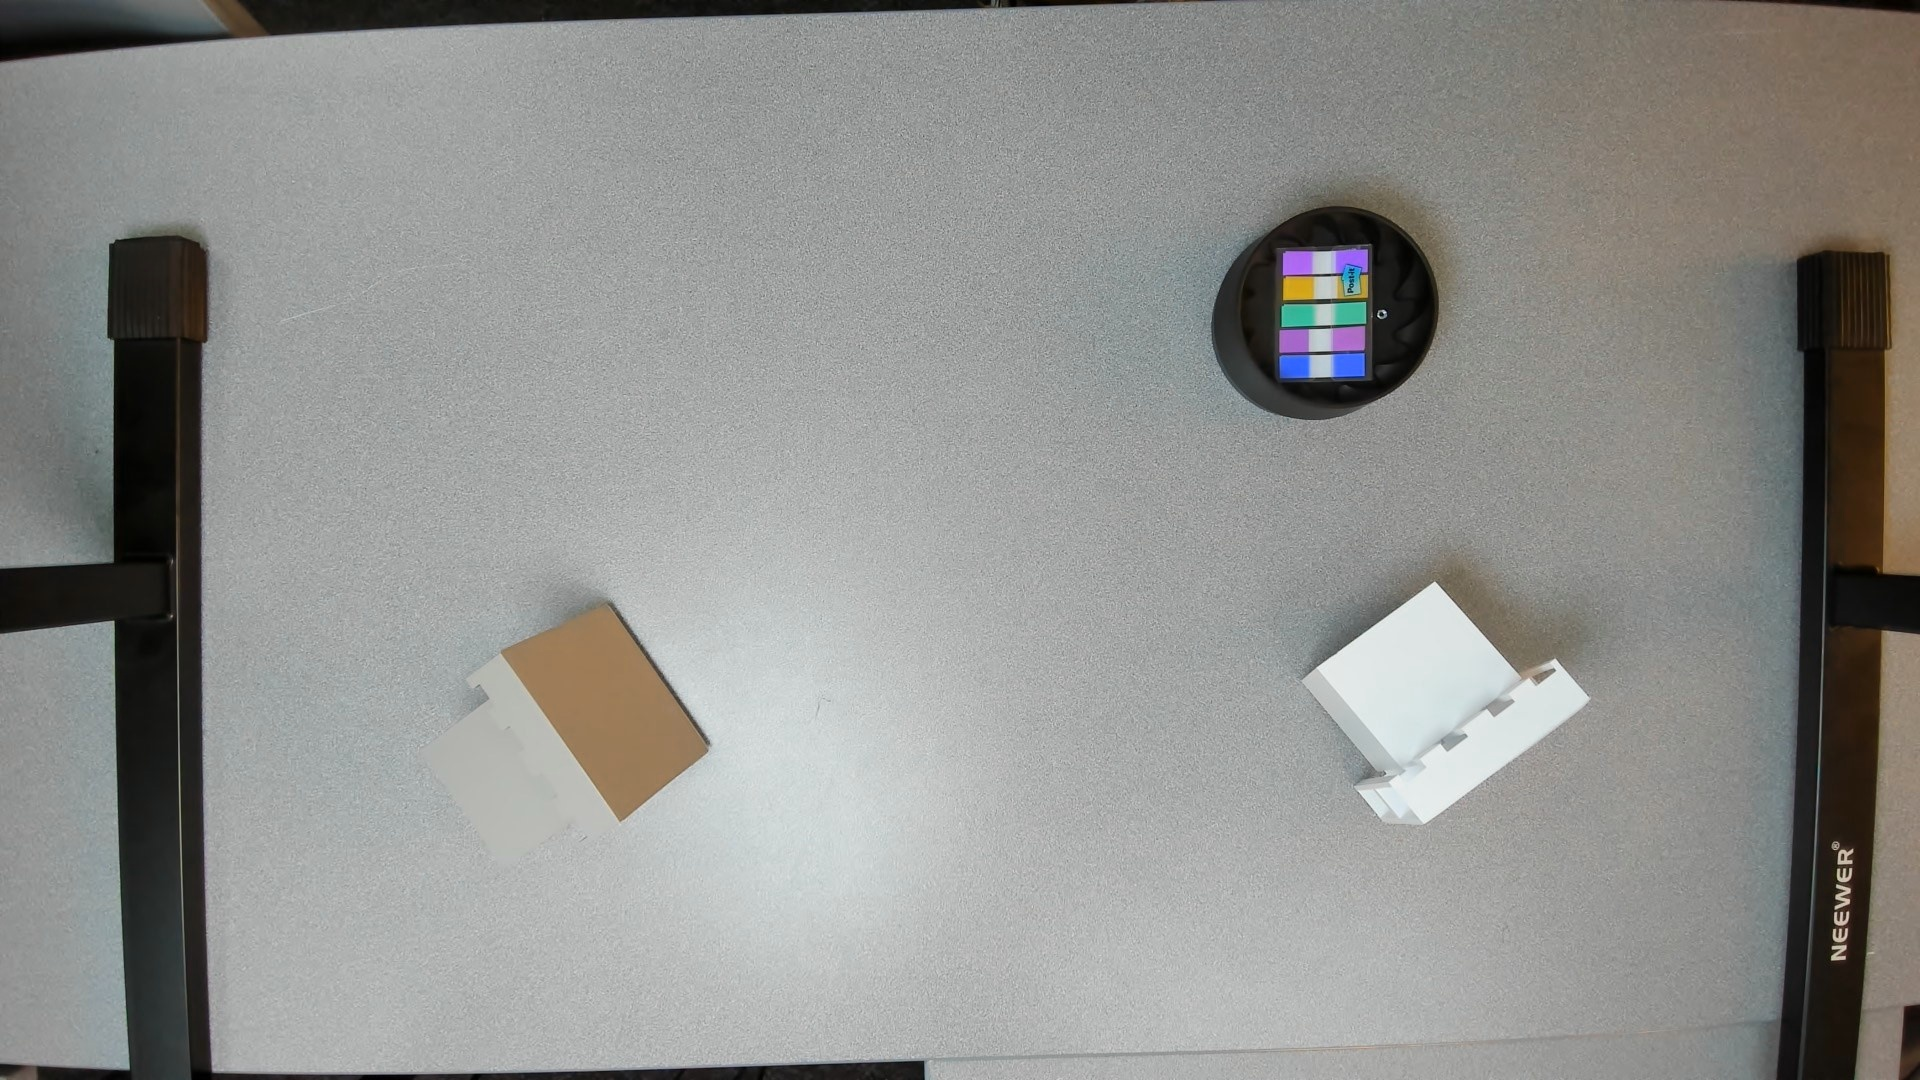grey pallet: (407, 592, 721, 881)
white pallet: (1282, 572, 1598, 848)
